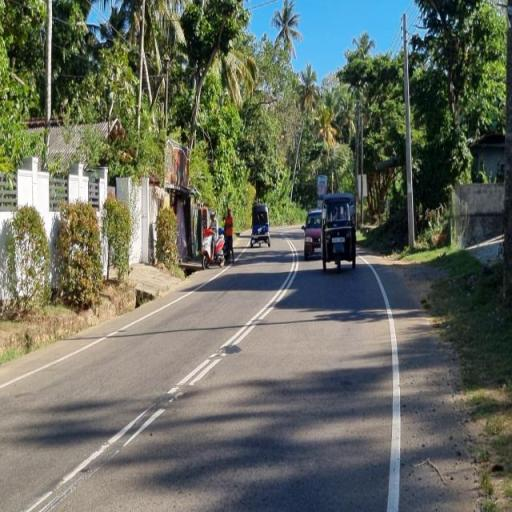double_white_line: (170, 238, 298, 402)
